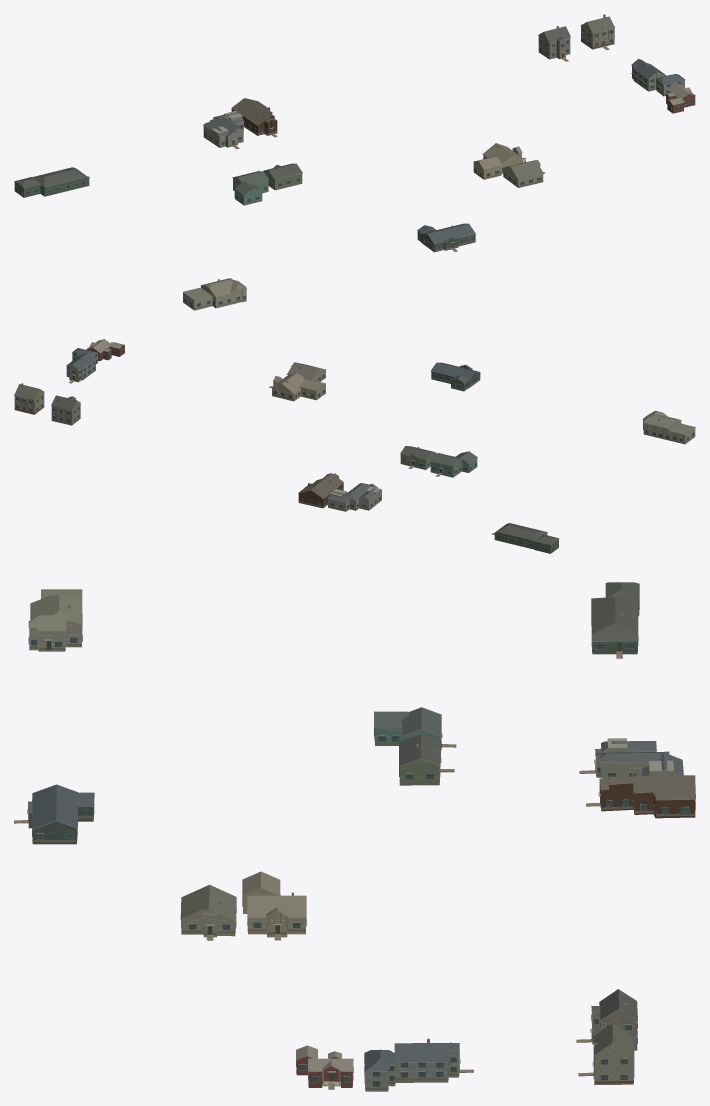
File: site.glb
The picture shows the model from 3 angles, top to bottom: view 1: azimuth 30°, elevation 25°; view 2: azimuth 150°, elevation 25°; view 3: azimuth 270°, elevation 25°; orthographic projection. The views are drawn at different scales.
Parts seen in each view (by area): view 1: roof-14604f43, roof-0bef5f7f, roof-fb3736b6, roof-3a76e3ec, roof-18949f29, east20-741, roof-2243c394, roof-b4c9a6ff, east20-893, roof-95785982, alder-2060, east20-740 (+1 smaller); view 2: roof-14604f43, roof-0bef5f7f, roof-3a76e3ec, roof-18949f29, roof-fb3736b6, east20-741, roof-b4c9a6ff, roof-2243c394, east20-893, roof-95785982, east20-740, kincaid-2028 (+1 smaller); view 3: roof-2243c394, east20-741, roof-18949f29, roof-14604f43, roof-fb3736b6, roof-0bef5f7f, roof-3a76e3ec, alder-2060, east20-893, roof-b4c9a6ff, east20-740, kincaid-2028 (+1 smaller).
Boxes of the visible parts, x1,y1,x2,y2 form: roof-14604f43: [14, 167, 89, 197]; roof-0bef5f7f: [183, 278, 246, 310]; roof-fb3736b6: [417, 223, 475, 252]; roof-3a76e3ec: [203, 111, 244, 147]; roof-18949f29: [473, 143, 524, 179]; east20-741: [231, 98, 277, 135]; roof-2243c394: [631, 59, 685, 96]; roof-b4c9a6ff: [232, 170, 268, 205]; east20-893: [580, 14, 615, 49]; roof-95785982: [538, 26, 570, 59]; alder-2060: [503, 160, 543, 187]; east20-740: [263, 163, 302, 190]; roof-14604f43: [494, 523, 559, 553]; roof-0bef5f7f: [643, 411, 695, 444]; roof-3a76e3ec: [327, 483, 382, 511]; roof-18949f29: [271, 372, 325, 401]; roof-fb3736b6: [431, 362, 480, 391]; east20-741: [298, 473, 343, 508]; roof-b4c9a6ff: [430, 451, 477, 477]; roof-2243c394: [66, 348, 97, 382]; east20-893: [14, 383, 44, 414]; roof-95785982: [51, 395, 80, 425]; east20-740: [400, 446, 436, 469]; kincaid-2028: [86, 339, 125, 361]; roof-2243c394: [364, 1038, 460, 1091]; east20-741: [598, 772, 695, 818]; roof-18949f29: [242, 871, 306, 937]; roof-14604f43: [591, 582, 639, 654]; roof-fb3736b6: [27, 784, 94, 844]; roof-0bef5f7f: [28, 589, 82, 651]; roof-3a76e3ec: [594, 738, 683, 778]; alder-2060: [180, 884, 236, 937]; east20-893: [592, 1023, 634, 1085]; roof-b4c9a6ff: [374, 707, 442, 757]; east20-740: [399, 734, 441, 785]; kincaid-2028: [296, 1045, 353, 1087].
Size of the model in its own units: 263 by 16.5 by 148.
